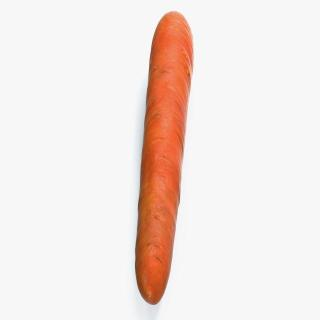carrot: (133, 10, 194, 305)
